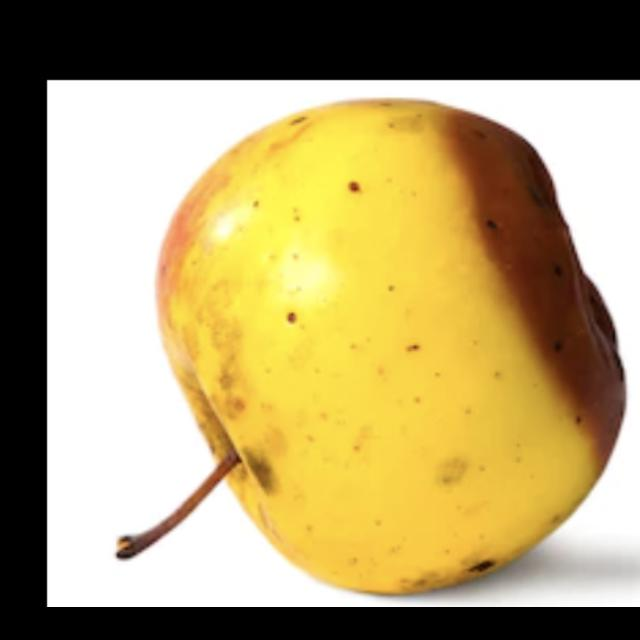Apel Tidak Segar: (56, 92, 628, 600)
